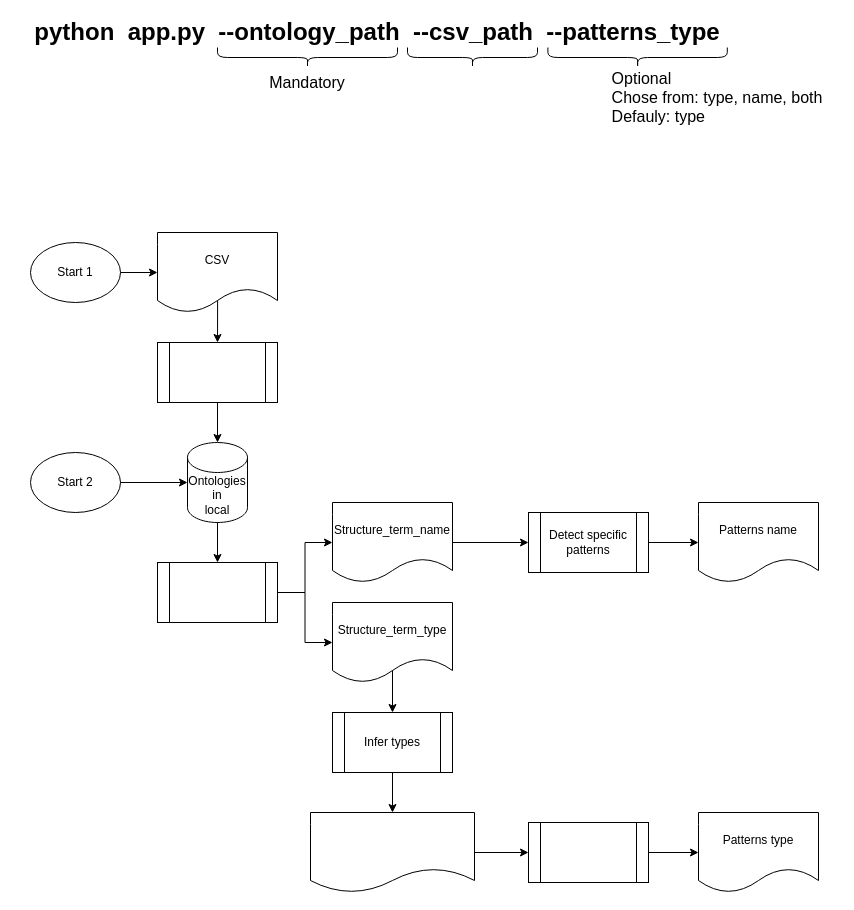
The diagram is 854 pixels wide and 910 high, and some of its shapes have lost their labels. The shapes that lost their labels are listed below. From the top down, each one's centre as x and y in pixels, then its label:
At (472,57): "Optional".
At (217,372): "Download ontologies".
At (217,592): "Detect structures".
At (392,852): "Structure_term_inferred_type".
At (588,852): "Detect generic patterns".
